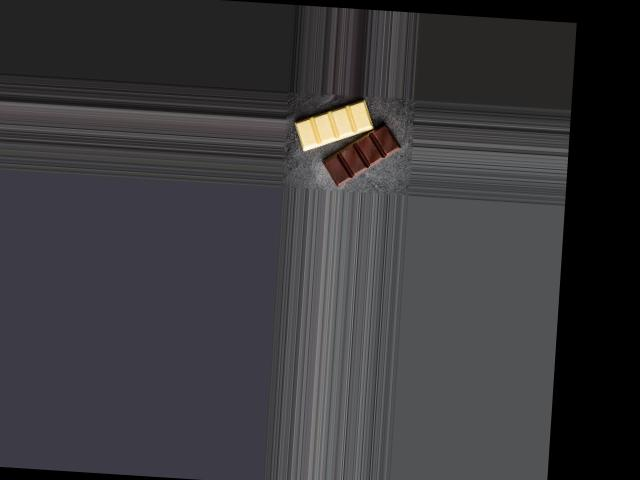chocolate: (286, 96, 403, 188)
